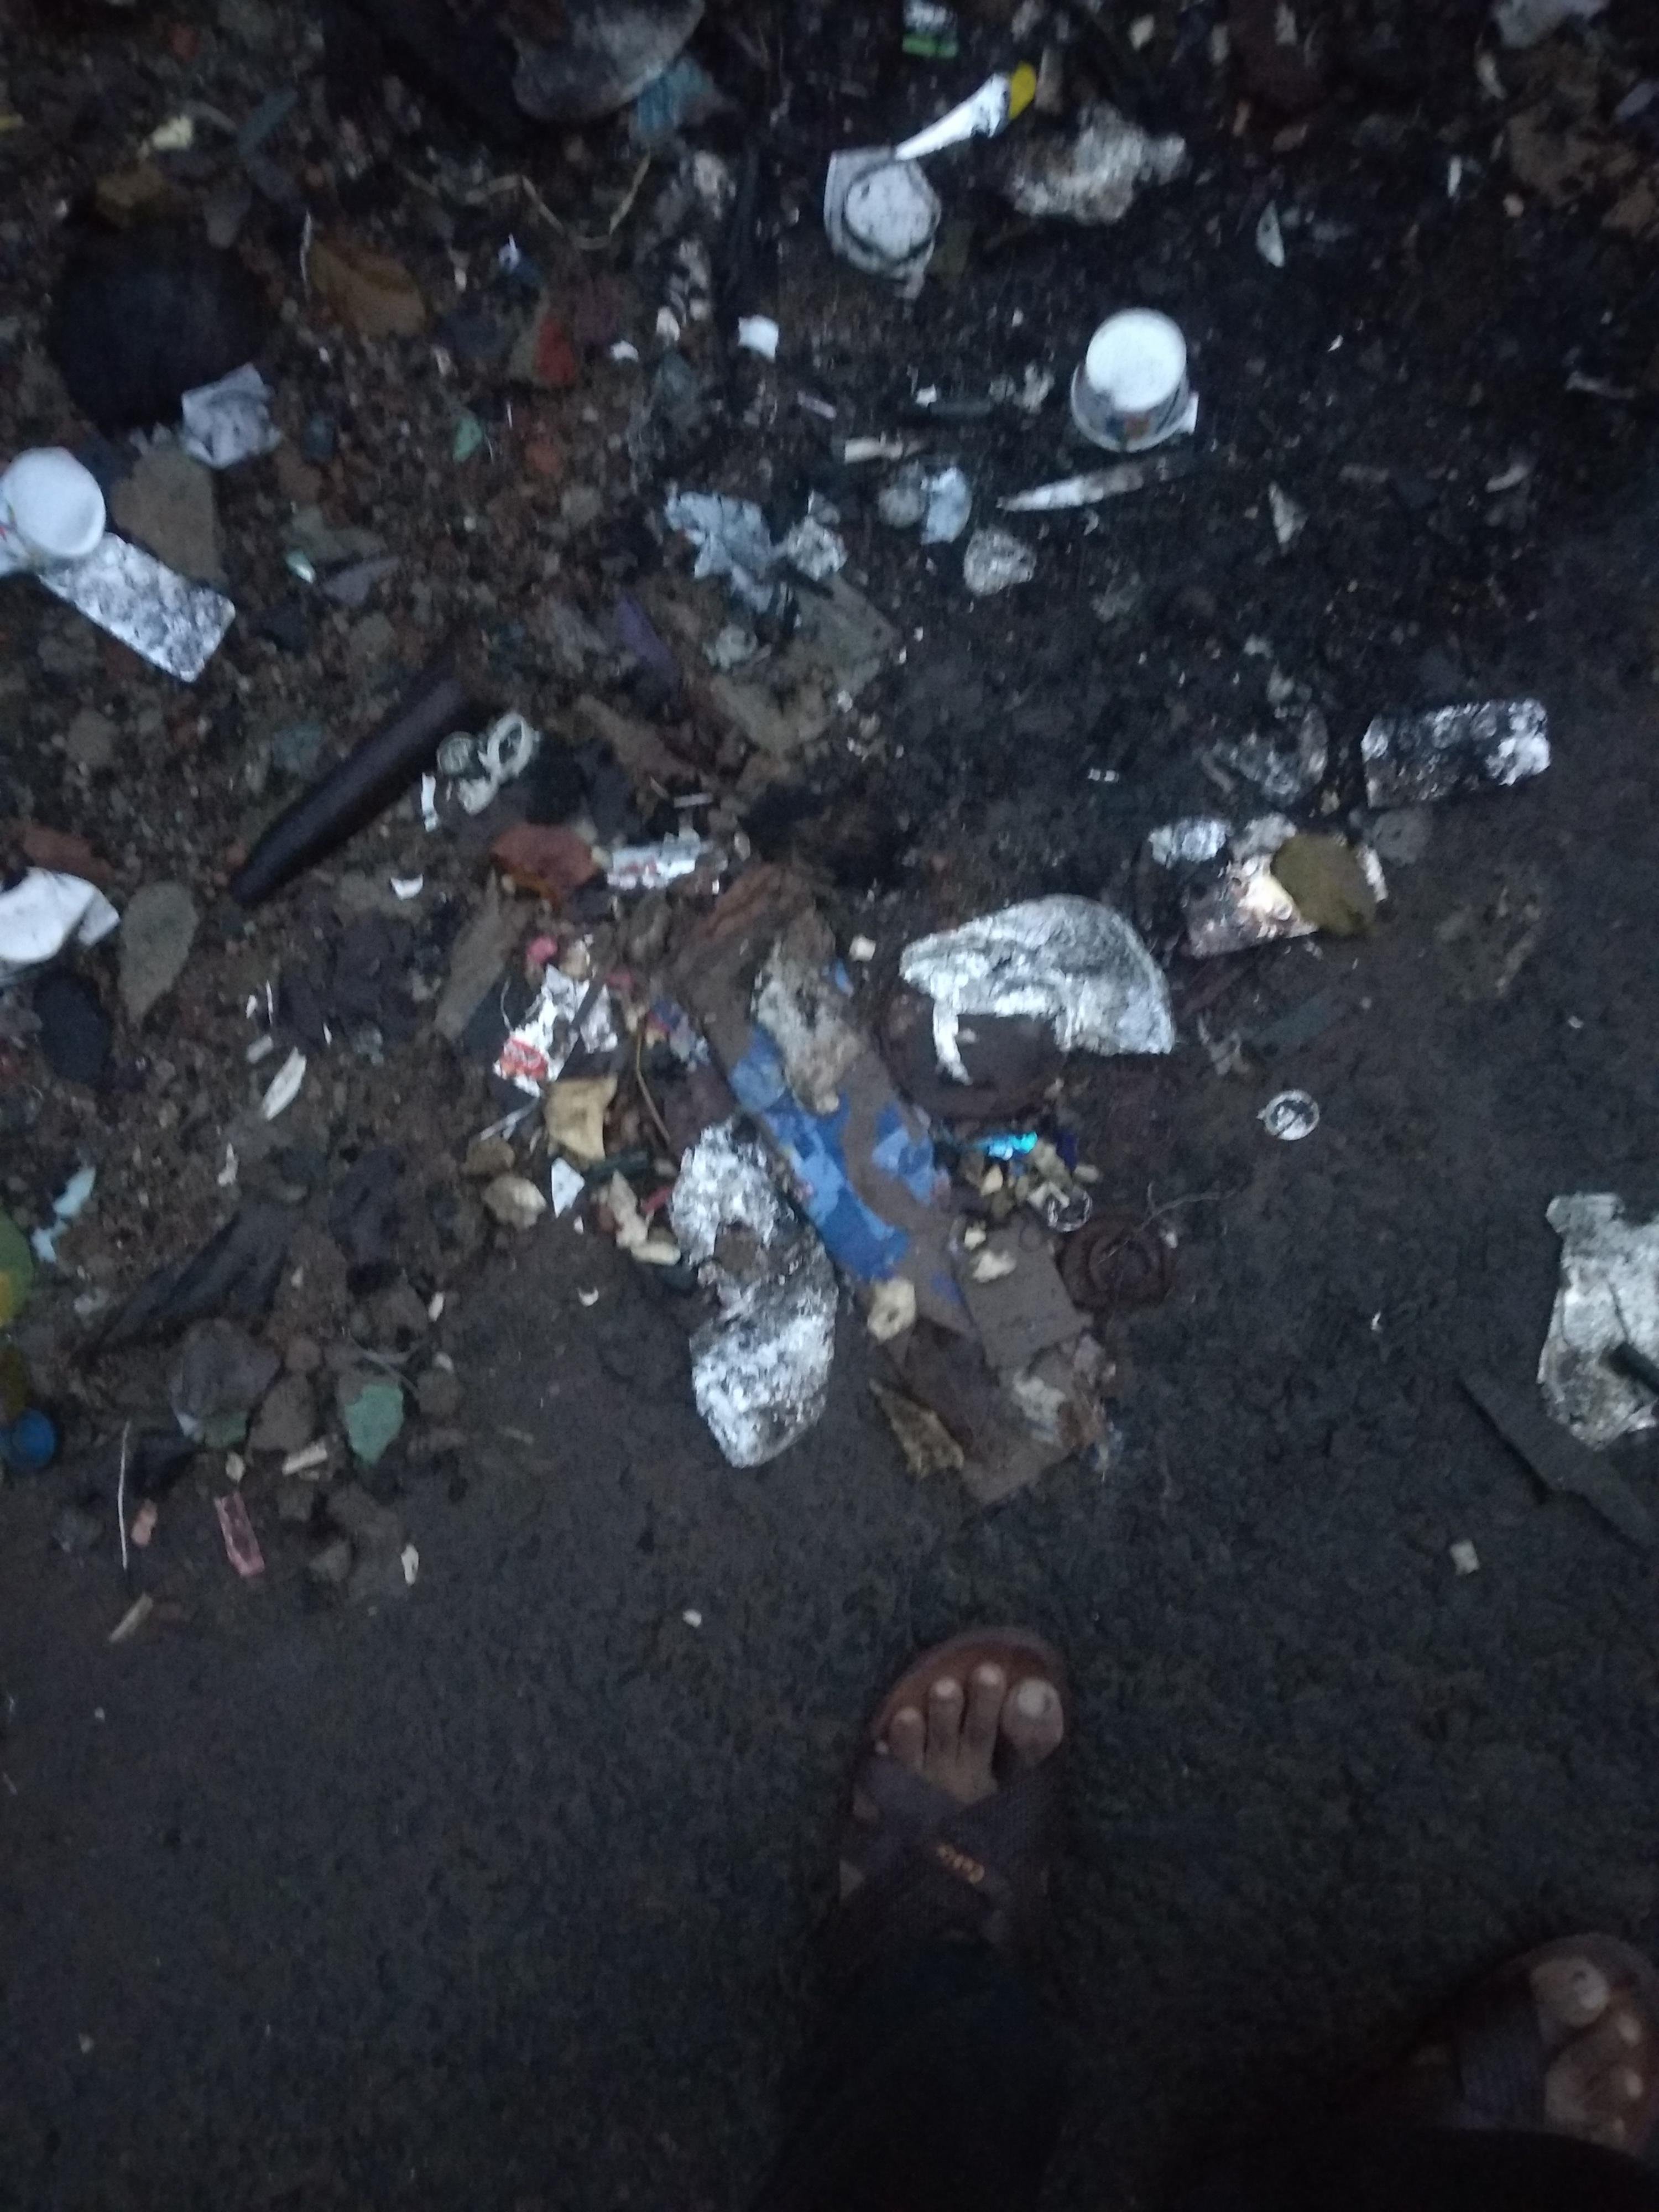trash: (0, 118, 1467, 1515)
